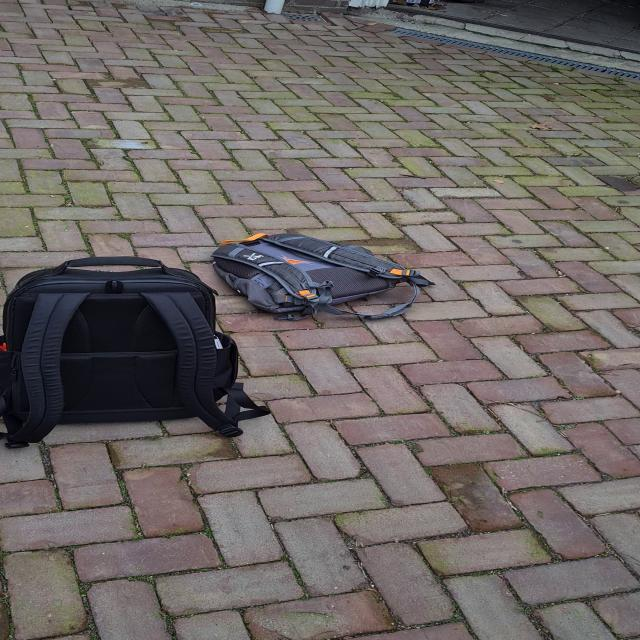backpack: (0, 253, 260, 454), (203, 232, 429, 320)
